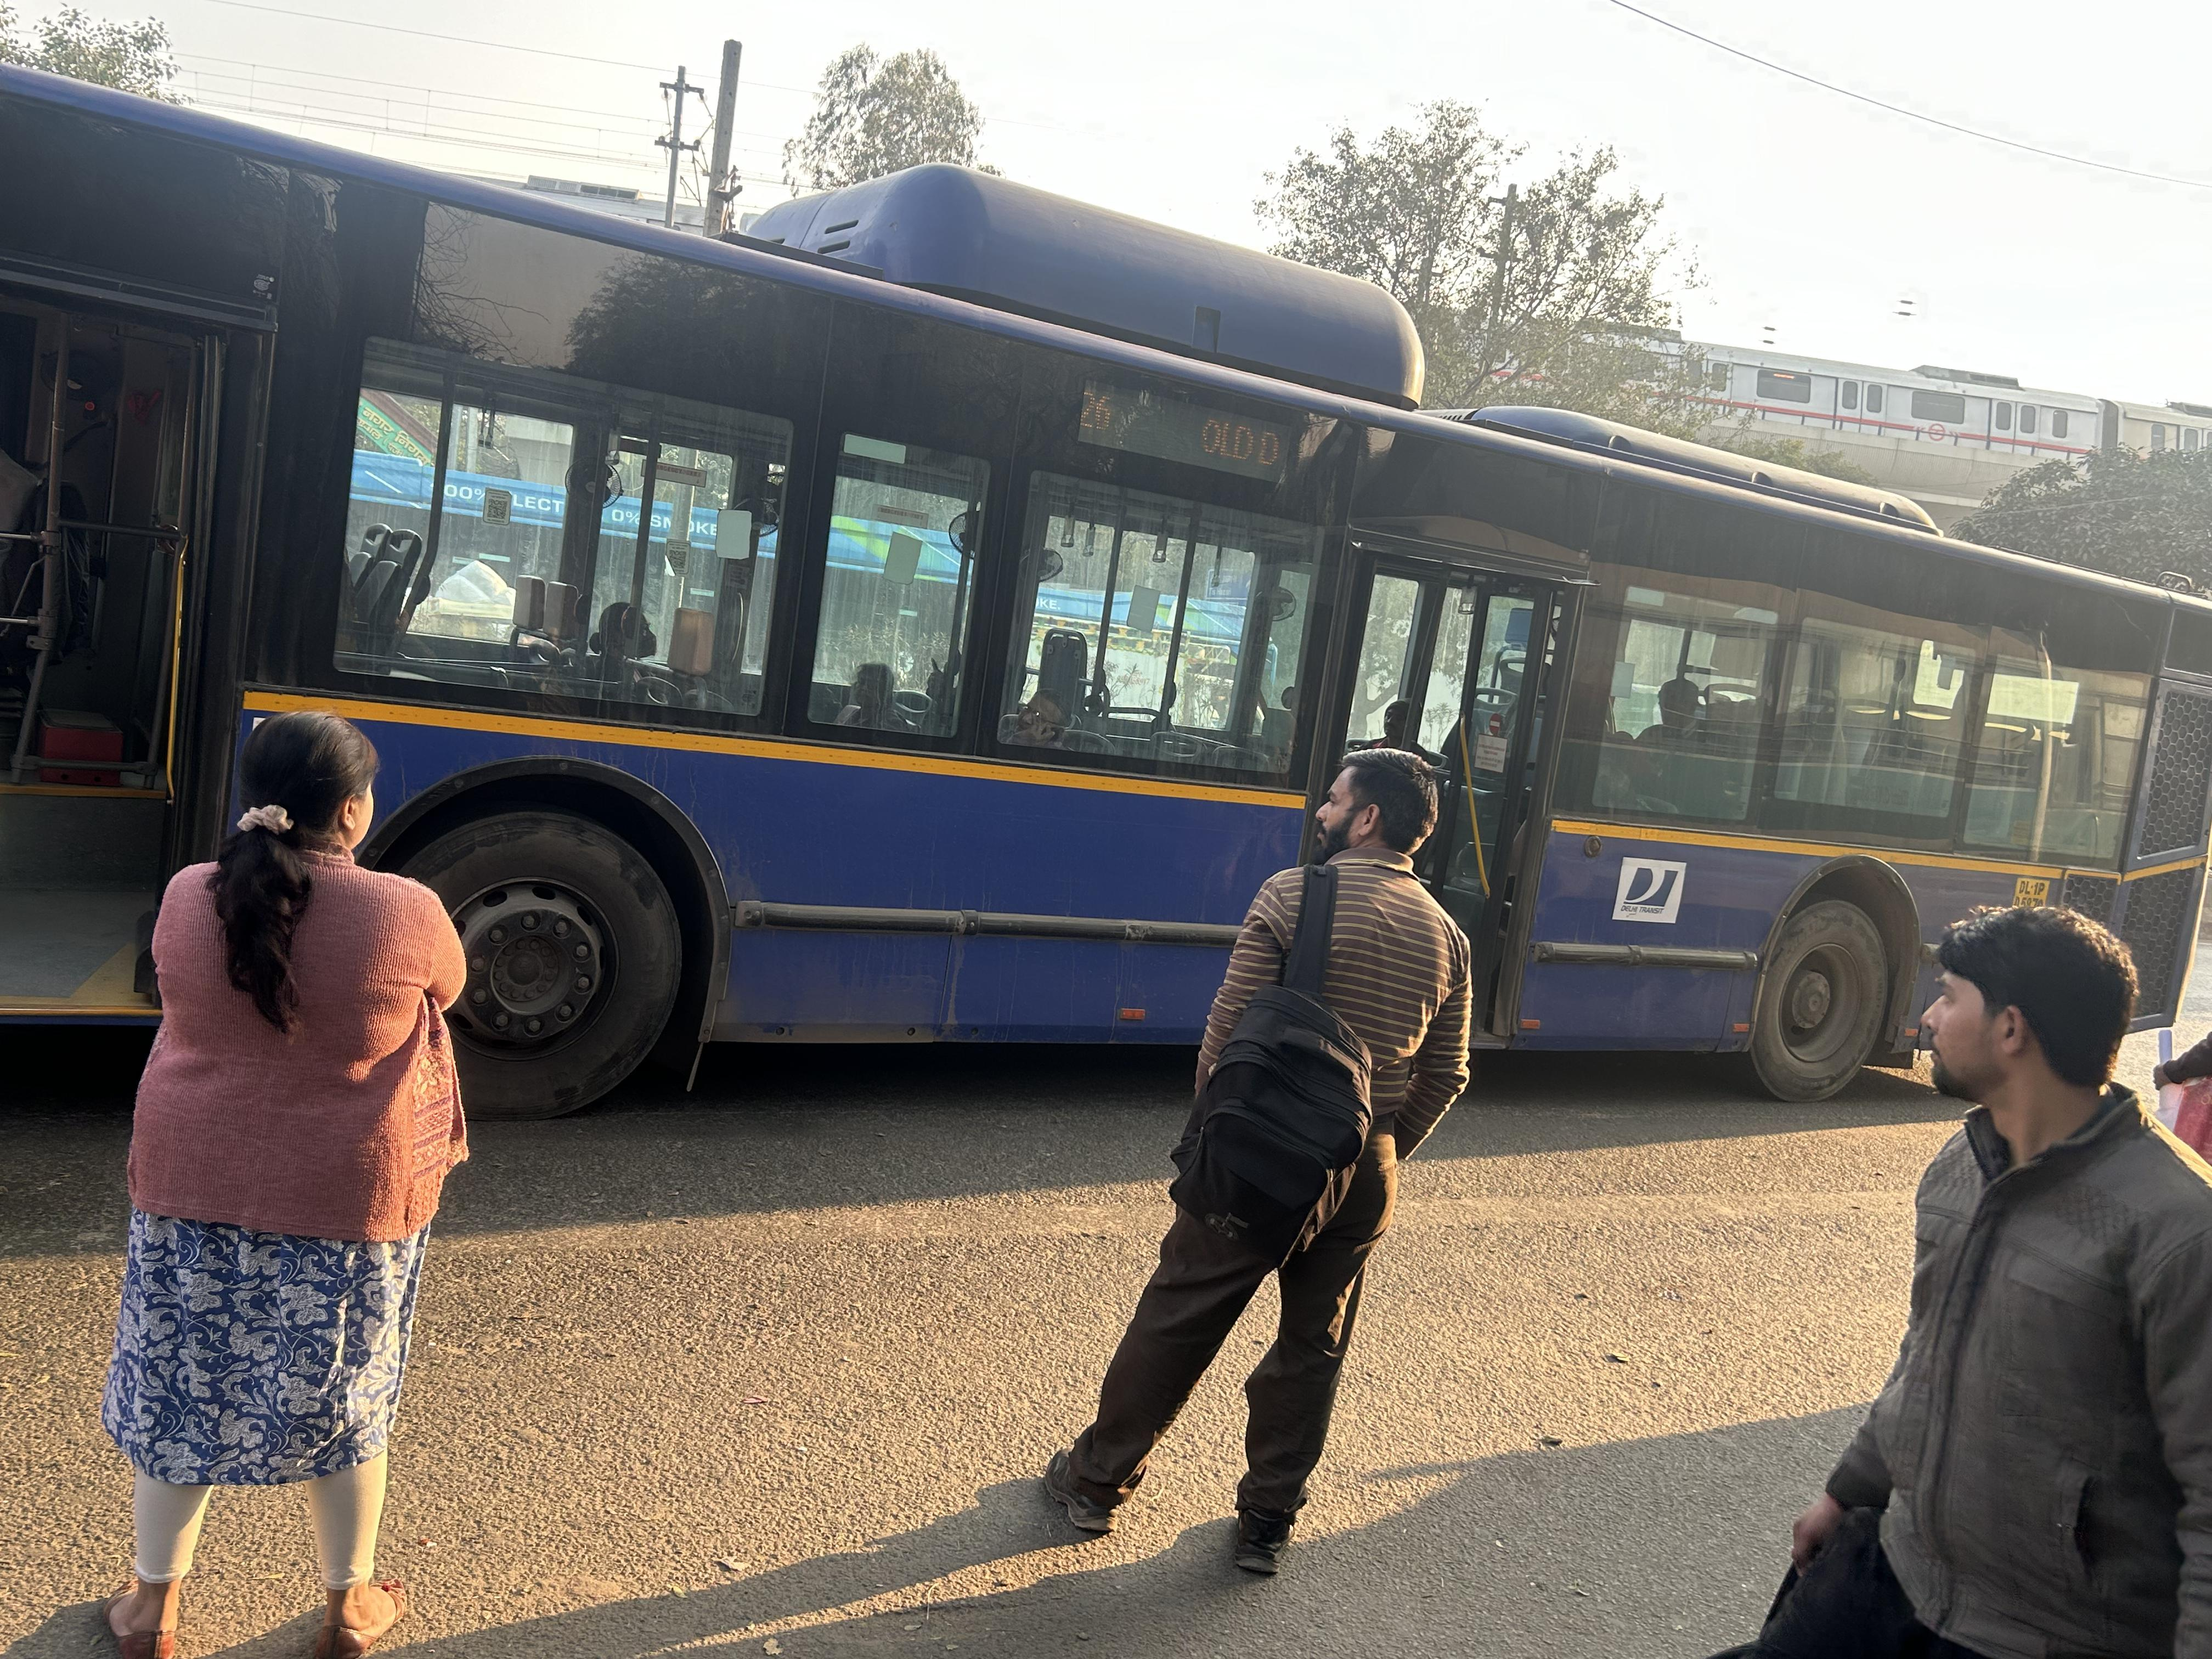Bus: (0, 49, 2212, 1267)
Display Board: (1031, 350, 1371, 538)
